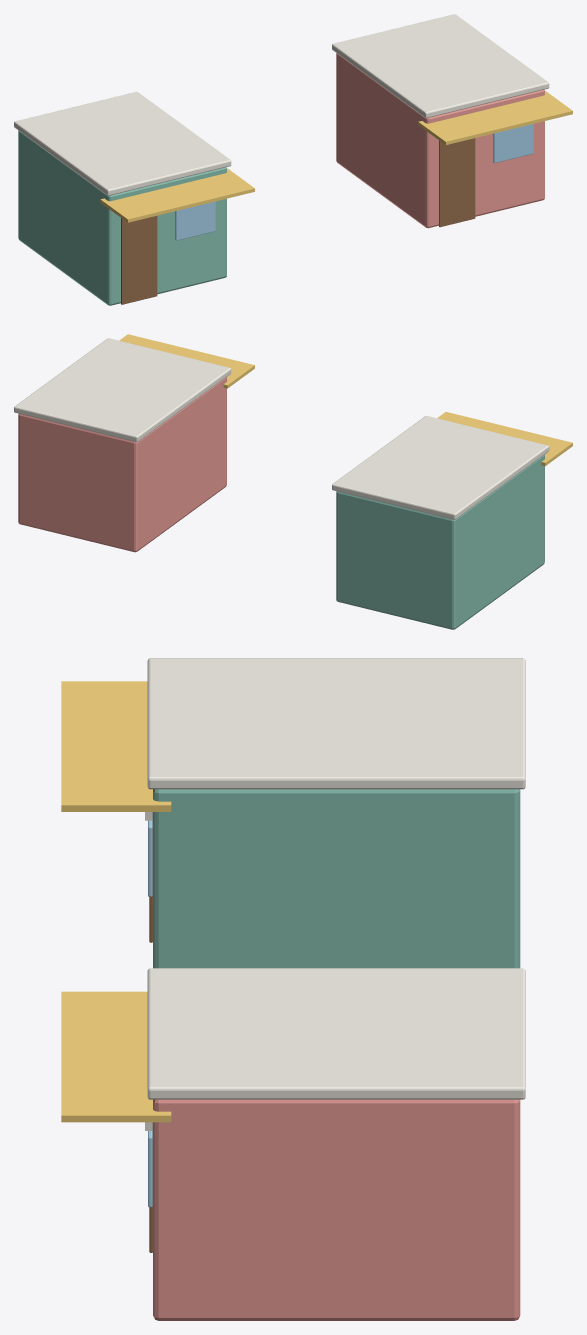
The model's file is MarketAlleyKit_blockout.glb.
The picture shows the model from 3 angles, top to bottom: view 1: azimuth 30°, elevation 25°; view 2: azimuth 150°, elevation 25°; view 3: azimuth 270°, elevation 25°; orthographic projection. The views are drawn at different scales.
Visible parts, largest first — view 1: ENV05_MarketAlleyKit_Shop0Wall_L0, ENV05_MarketAlleyKit_Shop1Wall_L0, ENV05_MarketAlleyKit_Shop1Roof_L0, ENV05_MarketAlleyKit_Shop0Roof_L0, ENV05_MarketAlleyKit_Awning1_L0, ENV05_MarketAlleyKit_Awning0_L0, ENV05_MarketAlleyKit_Shop1Door_L0, ENV05_MarketAlleyKit_Shop0Door_L0, ENV05_MarketAlleyKit_Shop0Window_L0, ENV05_MarketAlleyKit_Shop1Window_L0; view 2: ENV05_MarketAlleyKit_Shop0Wall_L0, ENV05_MarketAlleyKit_Shop1Wall_L0, ENV05_MarketAlleyKit_Shop1Roof_L0, ENV05_MarketAlleyKit_Shop0Roof_L0, ENV05_MarketAlleyKit_Awning1_L0, ENV05_MarketAlleyKit_Awning0_L0; view 3: ENV05_MarketAlleyKit_Shop1Wall_L0, ENV05_MarketAlleyKit_Shop0Wall_L0, ENV05_MarketAlleyKit_Shop1Roof_L0, ENV05_MarketAlleyKit_Shop0Roof_L0, ENV05_MarketAlleyKit_Awning1_L0, ENV05_MarketAlleyKit_Awning0_L0.
Part boxes in pixels (x1=…): ENV05_MarketAlleyKit_Shop0Wall_L0: x1=18, y1=130, x2=226, y2=305; ENV05_MarketAlleyKit_Shop1Wall_L0: x1=336, y1=53, x2=544, y2=228; ENV05_MarketAlleyKit_Shop1Roof_L0: x1=332, y1=14, x2=549, y2=118; ENV05_MarketAlleyKit_Shop0Roof_L0: x1=14, y1=91, x2=231, y2=195; ENV05_MarketAlleyKit_Awning1_L0: x1=418, y1=90, x2=572, y2=144; ENV05_MarketAlleyKit_Awning0_L0: x1=100, y1=168, x2=254, y2=222; ENV05_MarketAlleyKit_Shop1Door_L0: x1=439, y1=138, x2=475, y2=227; ENV05_MarketAlleyKit_Shop0Door_L0: x1=121, y1=216, x2=157, y2=304; ENV05_MarketAlleyKit_Shop0Window_L0: x1=175, y1=201, x2=215, y2=240; ENV05_MarketAlleyKit_Shop1Window_L0: x1=493, y1=124, x2=533, y2=163; ENV05_MarketAlleyKit_Shop0Wall_L0: x1=336, y1=454, x2=544, y2=629; ENV05_MarketAlleyKit_Shop1Wall_L0: x1=18, y1=377, x2=226, y2=552; ENV05_MarketAlleyKit_Shop1Roof_L0: x1=14, y1=338, x2=231, y2=442; ENV05_MarketAlleyKit_Shop0Roof_L0: x1=332, y1=416, x2=549, y2=519; ENV05_MarketAlleyKit_Awning1_L0: x1=119, y1=334, x2=254, y2=388; ENV05_MarketAlleyKit_Awning0_L0: x1=437, y1=412, x2=572, y2=466; ENV05_MarketAlleyKit_Shop1Wall_L0: x1=153, y1=1099, x2=520, y2=1320; ENV05_MarketAlleyKit_Shop0Wall_L0: x1=153, y1=789, x2=520, y2=968; ENV05_MarketAlleyKit_Shop1Roof_L0: x1=147, y1=968, x2=525, y2=1099; ENV05_MarketAlleyKit_Shop0Roof_L0: x1=147, y1=658, x2=525, y2=789; ENV05_MarketAlleyKit_Awning1_L0: x1=61, y1=991, x2=171, y2=1122; ENV05_MarketAlleyKit_Awning0_L0: x1=61, y1=681, x2=171, y2=811.
Bounding box in the file's own units: 11.2 × 2.85 × 5.06.
